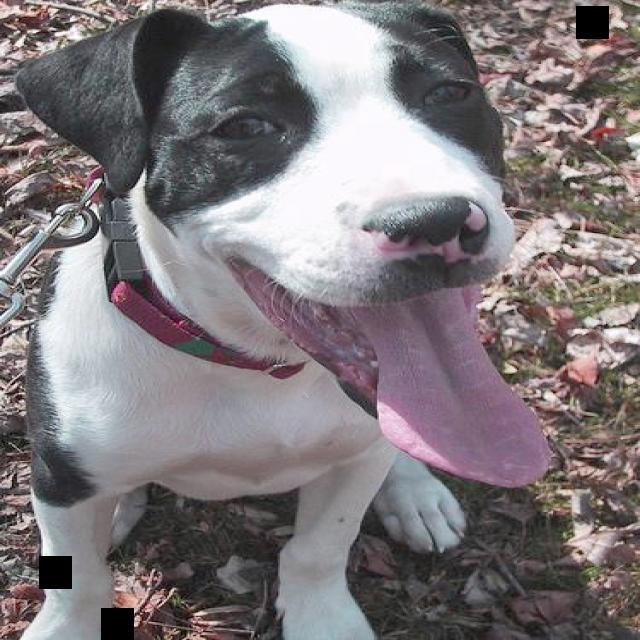adult_dog: (17, 4, 553, 640)
